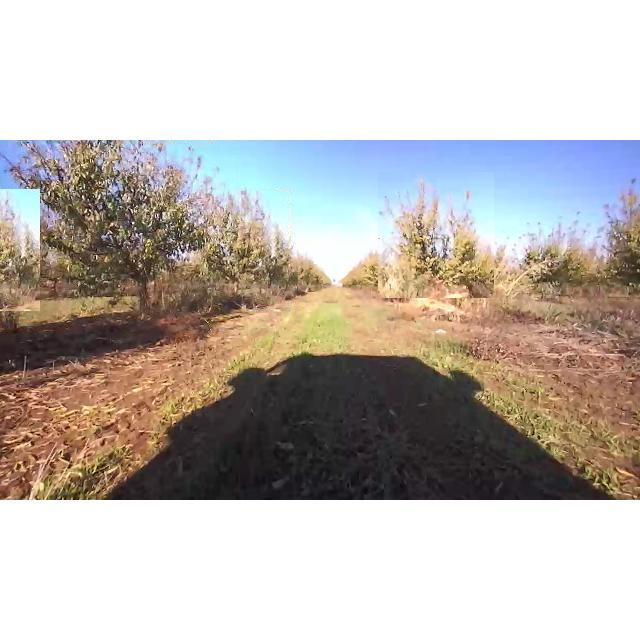direk: (0, 143, 236, 329), (378, 172, 494, 298), (196, 189, 290, 311)
